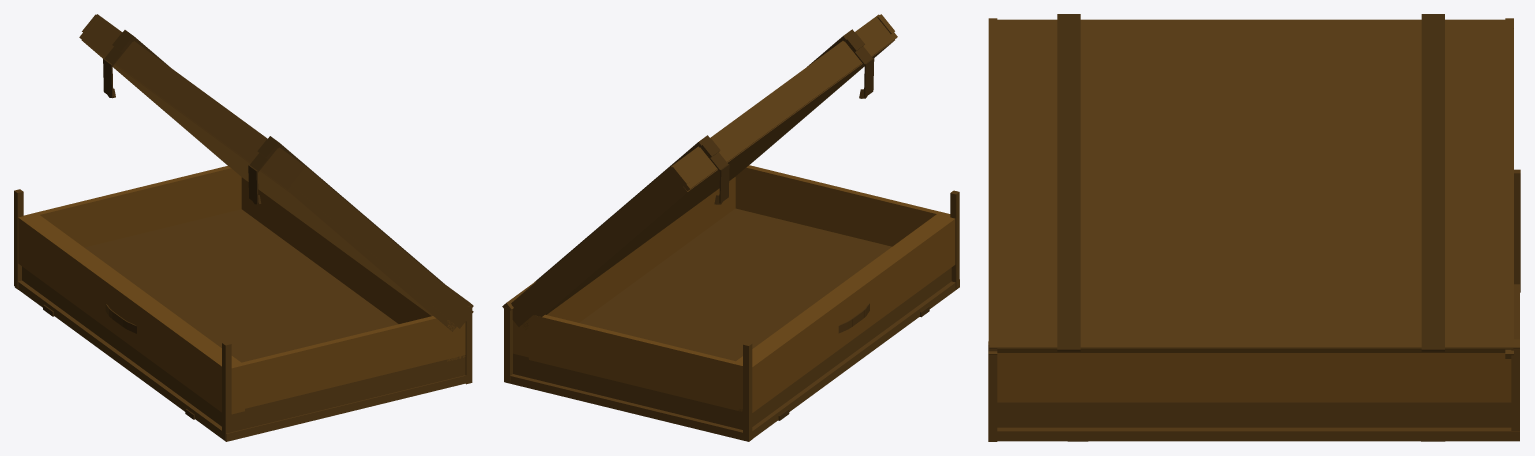
The model's file is OpenedLuggage.fbx.
The picture shows the model from 3 angles, left to right: view 1: azimuth 30°, elevation 25°; view 2: azimuth 150°, elevation 25°; view 3: azimuth 270°, elevation 25°; orthographic projection. The views are drawn at different scales.
Visible parts, largest first — view 1: Cube.005, Cube, Cube.011, Cube.010, Cube.009, Cube.004, Cube.001, Cube.003, Cube.036, Cube.031, Cube.035, Cube.030 (+2 smaller); view 2: Cube.005, Cube, Cube.010, Cube.011, Cube.009, Cube.004, Cube.001, Cube.002, Cube.038, Cube.036, Cube.035, Cube.027 (+2 smaller); view 3: Cube.004, Cube.009, Cube.005, Cube.012, Cube.154, Cube.034, Cube.033, Cube.035, Cube.029, Cube.027, Cube.028, Cube.003.
Part boxes in pixels (x1=…): Cube.005: x1=22, y1=209, x2=465, y2=431; Cube: x1=18, y1=214, x2=244, y2=414; Cube.011: x1=242, y1=316, x2=446, y2=408; Cube.010: x1=31, y1=166, x2=241, y2=247; Cube.009: x1=241, y1=177, x2=465, y2=361; Cube.004: x1=81, y1=40, x2=467, y2=331; Cube.001: x1=79, y1=22, x2=297, y2=193; Cube.003: x1=288, y1=165, x2=473, y2=328; Cube.036: x1=18, y1=280, x2=222, y2=439; Cube.031: x1=223, y1=375, x2=466, y2=441; Cube.035: x1=96, y1=14, x2=308, y2=169; Cube.030: x1=222, y1=341, x2=231, y2=440; Cube.005: x1=513, y1=208, x2=951, y2=429; Cube: x1=736, y1=211, x2=955, y2=412; Cube.010: x1=529, y1=314, x2=740, y2=410; Cube.011: x1=735, y1=165, x2=939, y2=246; Cube.009: x1=513, y1=177, x2=735, y2=357; Cube.004: x1=511, y1=40, x2=894, y2=329; Cube.001: x1=680, y1=22, x2=897, y2=190; Cube.002: x1=511, y1=164, x2=689, y2=326; Cube.038: x1=506, y1=374, x2=752, y2=441; Cube.036: x1=752, y1=281, x2=956, y2=438; Cube.035: x1=667, y1=14, x2=880, y2=176; Cube.027: x1=743, y1=342, x2=752, y2=440; Cube.004: x1=990, y1=25, x2=1513, y2=352; Cube.009: x1=997, y1=353, x2=1511, y2=401; Cube.005: x1=997, y1=402, x2=1511, y2=427; Cube.012: x1=1057, y1=14, x2=1080, y2=351; Cube.154: x1=1421, y1=14, x2=1444, y2=351; Cube.034: x1=989, y1=427, x2=1519, y2=441; Cube.033: x1=989, y1=339, x2=1519, y2=348; Cube.035: x1=990, y1=19, x2=1513, y2=28; Cube.029: x1=988, y1=341, x2=997, y2=441; Cube.027: x1=1514, y1=169, x2=1520, y2=292; Cube.028: x1=1511, y1=348, x2=1519, y2=430; Cube.003: x1=988, y1=18, x2=997, y2=354.
Size of the model in its own units: 133 by 132 by 194.
